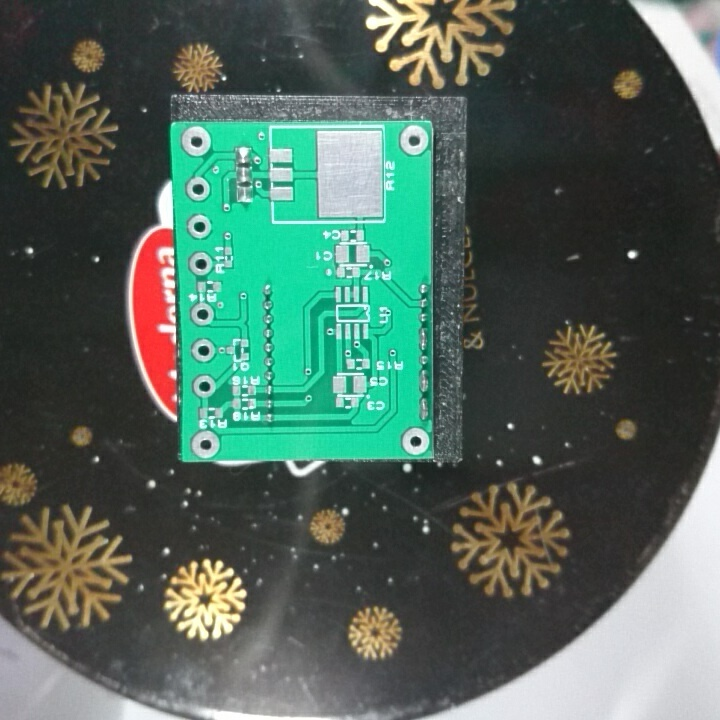F: (178, 124, 213, 157), (398, 123, 430, 158), (189, 427, 222, 460), (399, 423, 431, 457), (188, 336, 217, 365), (188, 300, 214, 328), (185, 175, 212, 201), (187, 214, 214, 240), (187, 250, 214, 276), (191, 374, 217, 398)
P: (416, 326, 431, 352), (417, 367, 431, 394), (418, 395, 432, 420)
